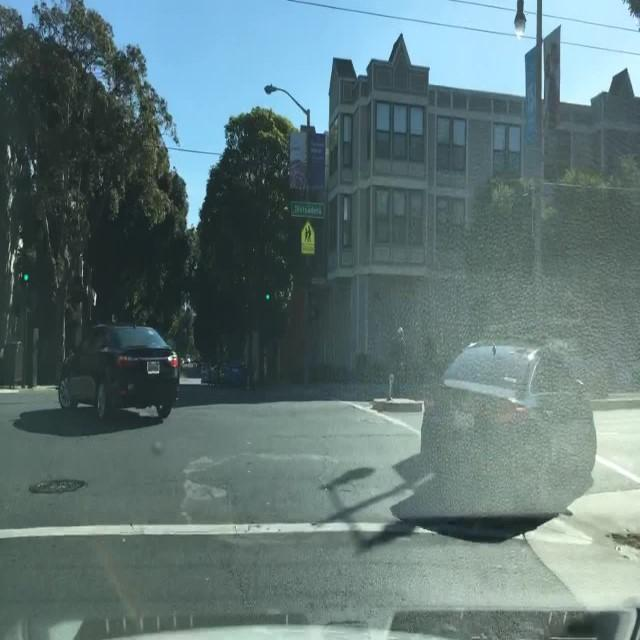normal: (402, 292, 611, 545), (18, 308, 199, 437)
